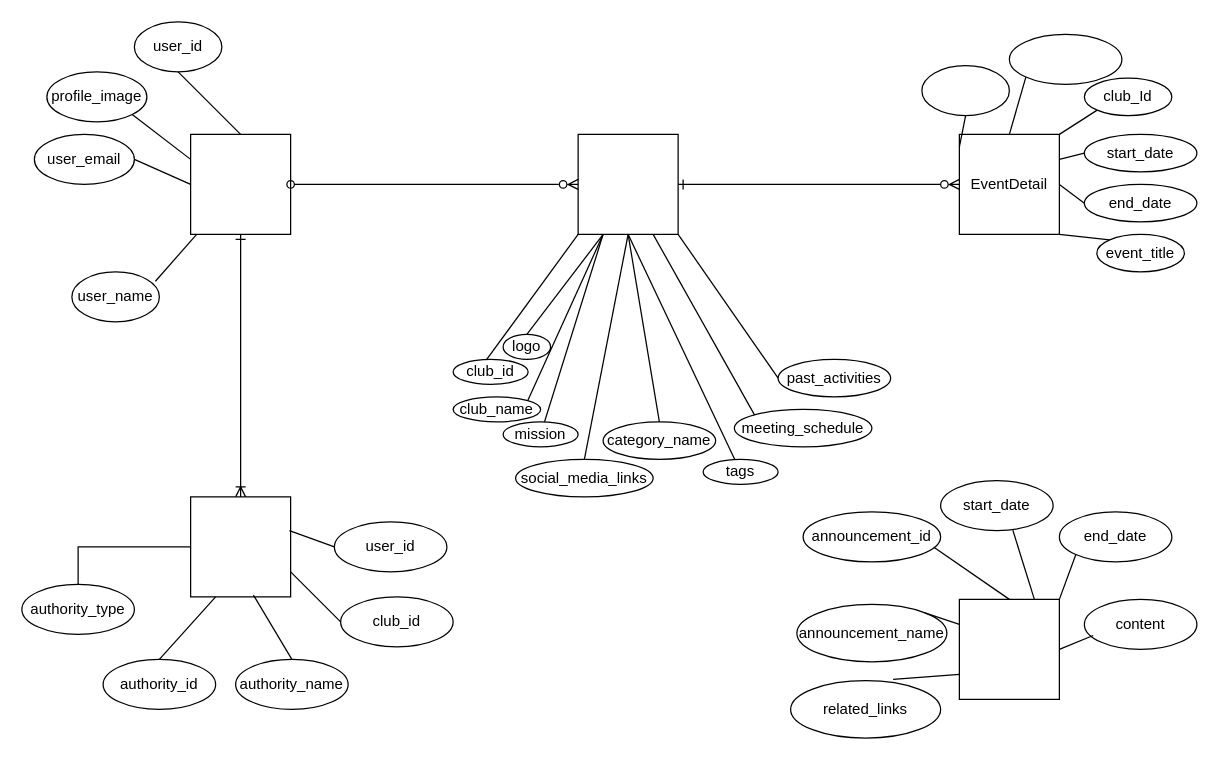
This 1219x760 diagram has some shape labels left out. The centre of each missing label's shape, as x and y in pixels:
Announcement: the point at 1008,648
Authority: the point at 240,546
ClubInfo: the point at 627,183
event_content: the point at 1065,58
event_id: the point at 965,90
User: the point at 240,183
